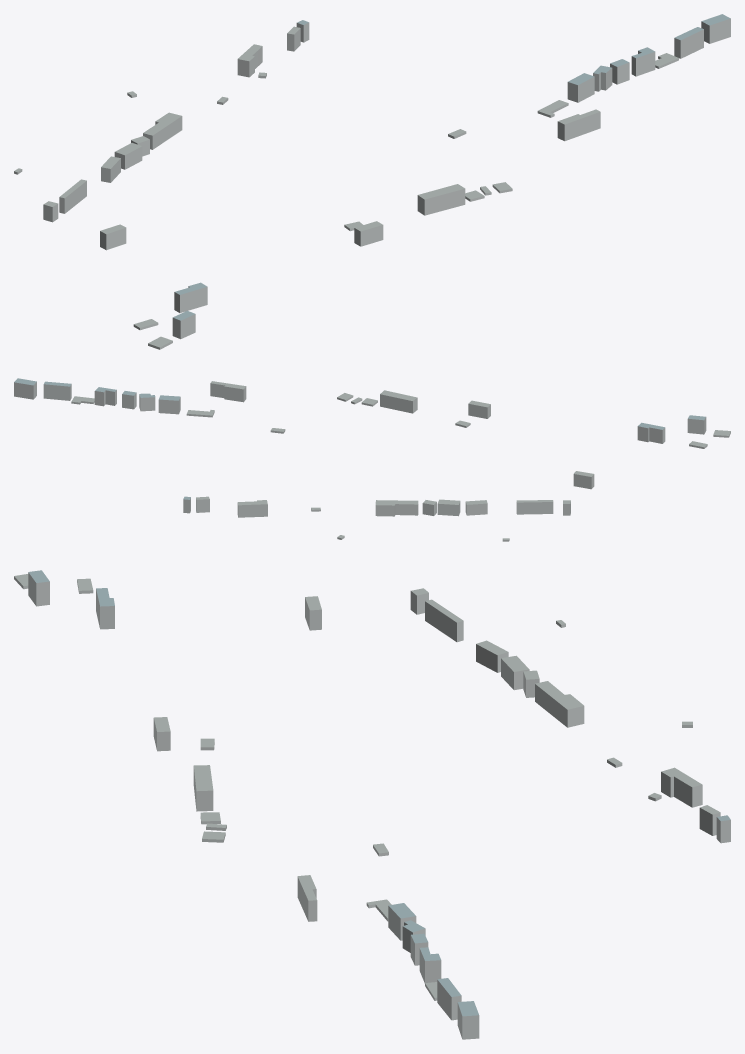
The model's file is far.glb.
3 renders of one model, top to bottom at view 1: azimuth 30°, elevation 25°; view 2: azimuth 150°, elevation 25°; view 3: azimuth 270°, elevation 25°, orthographic. The views are drawn at different scales.
Size of the model in its own units: 829 by 19.5 by 542.
